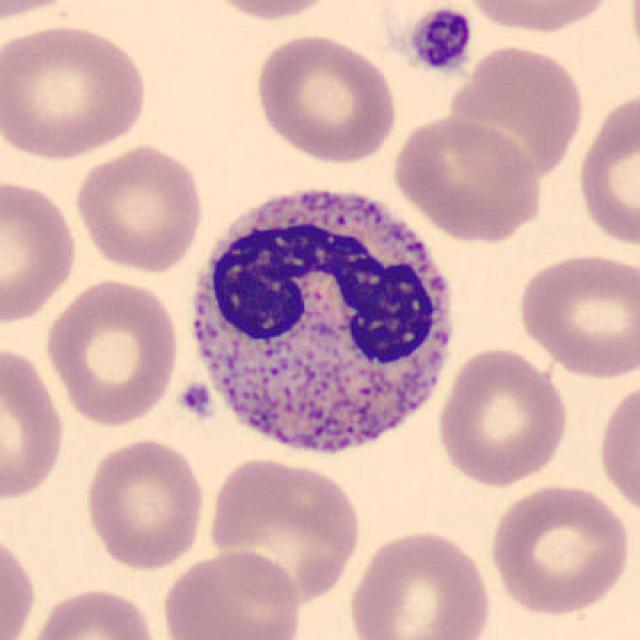Neutrophil: (172, 169, 470, 476)
Platelets: (407, 3, 475, 76), (176, 379, 215, 421)
RBC: (206, 455, 364, 606), (41, 275, 183, 430), (0, 19, 151, 162), (483, 479, 633, 619), (389, 113, 546, 243), (446, 41, 587, 185), (251, 30, 400, 166), (434, 344, 572, 488), (71, 141, 206, 275), (80, 434, 208, 573), (343, 525, 496, 640), (512, 248, 638, 380), (158, 546, 305, 640), (0, 175, 82, 326), (572, 83, 640, 252), (0, 340, 68, 506), (21, 583, 163, 640), (594, 374, 638, 522), (456, 0, 620, 35), (0, 525, 39, 640), (195, 0, 345, 23), (0, 0, 87, 26), (626, 0, 640, 79)
